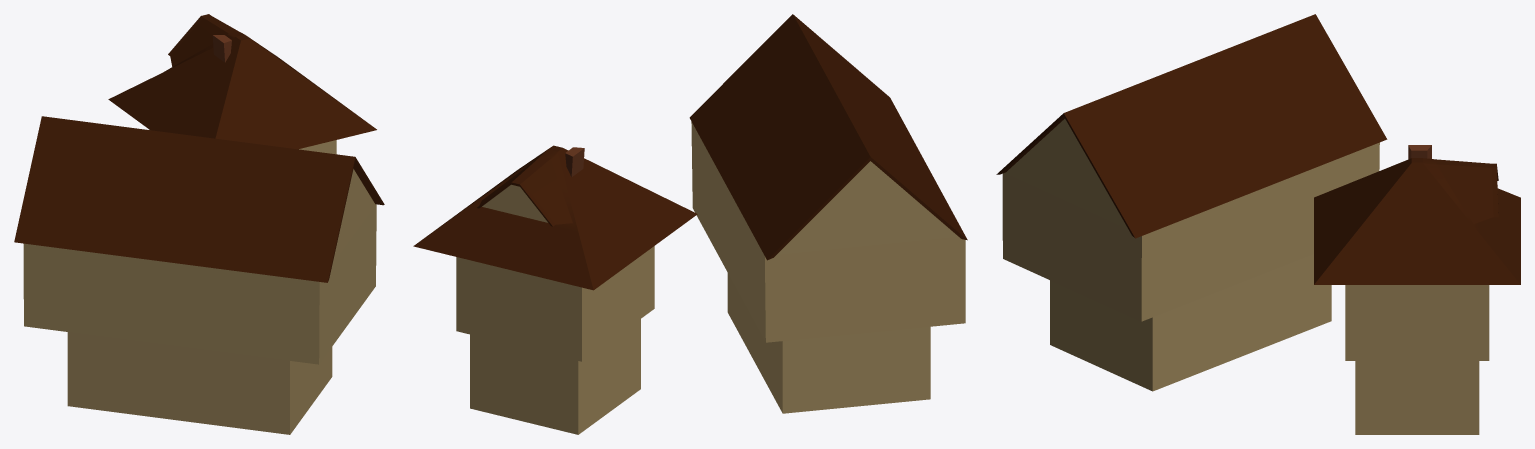
Rendered from pareja_casa1.fbx.
The picture shows the model from 3 angles, left to right: view 1: azimuth 30°, elevation 25°; view 2: azimuth 150°, elevation 25°; view 3: azimuth 270°, elevation 25°; orthographic projection. The views are drawn at different scales.
Visible parts, largest first — view 1: casa3, casa1; view 2: casa3, casa1; view 3: casa3, casa1.
Part boxes in pixels (x1,y1,x2,y2): casa3: (14,116,384,434); casa1: (108,14,376,154); casa3: (689,14,967,413); casa1: (413,145,697,434); casa3: (996,14,1387,391); casa1: (1314,145,1520,434).
Size of the model in its own units: 144 by 89.18 by 158.
